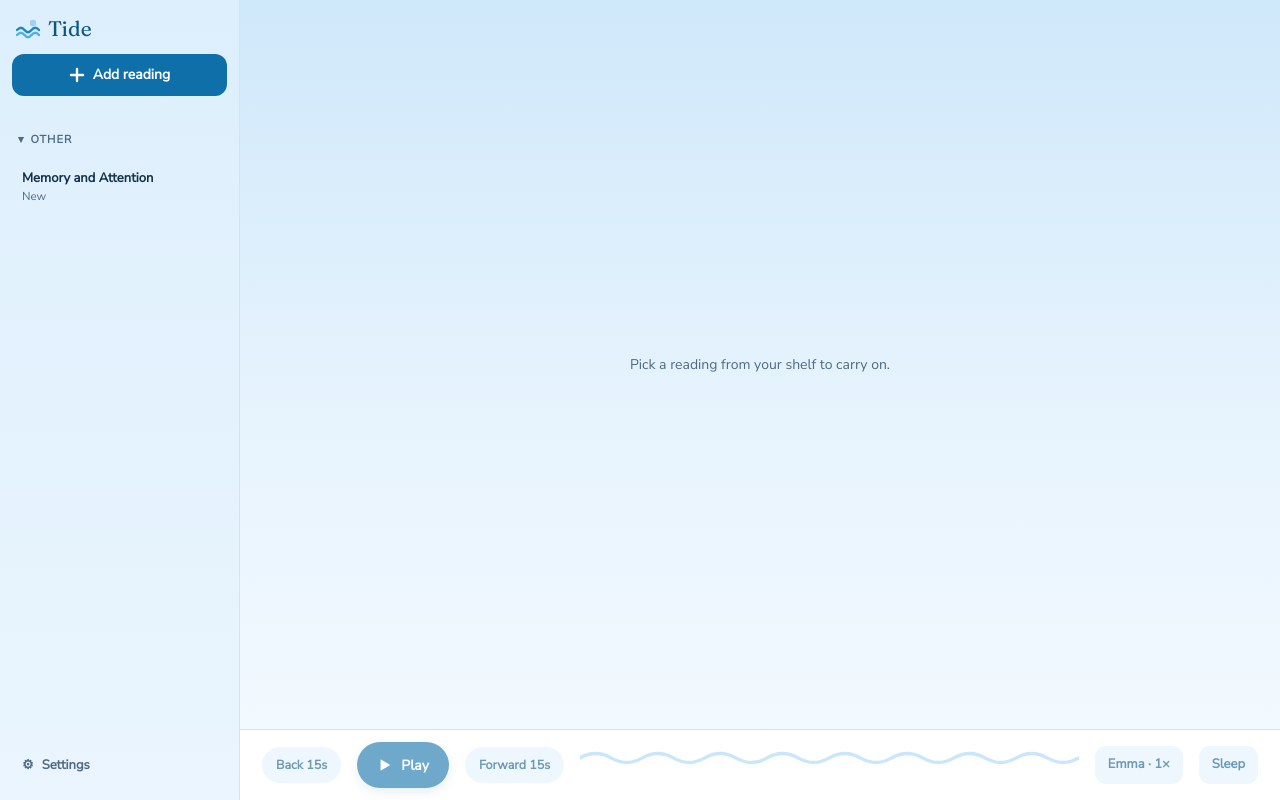
it: Reader open states › a missing file at open time shows File moved
Click the button "Memory and Attention New" at (120,187), box left=12, top=162, right=227, bottom=212
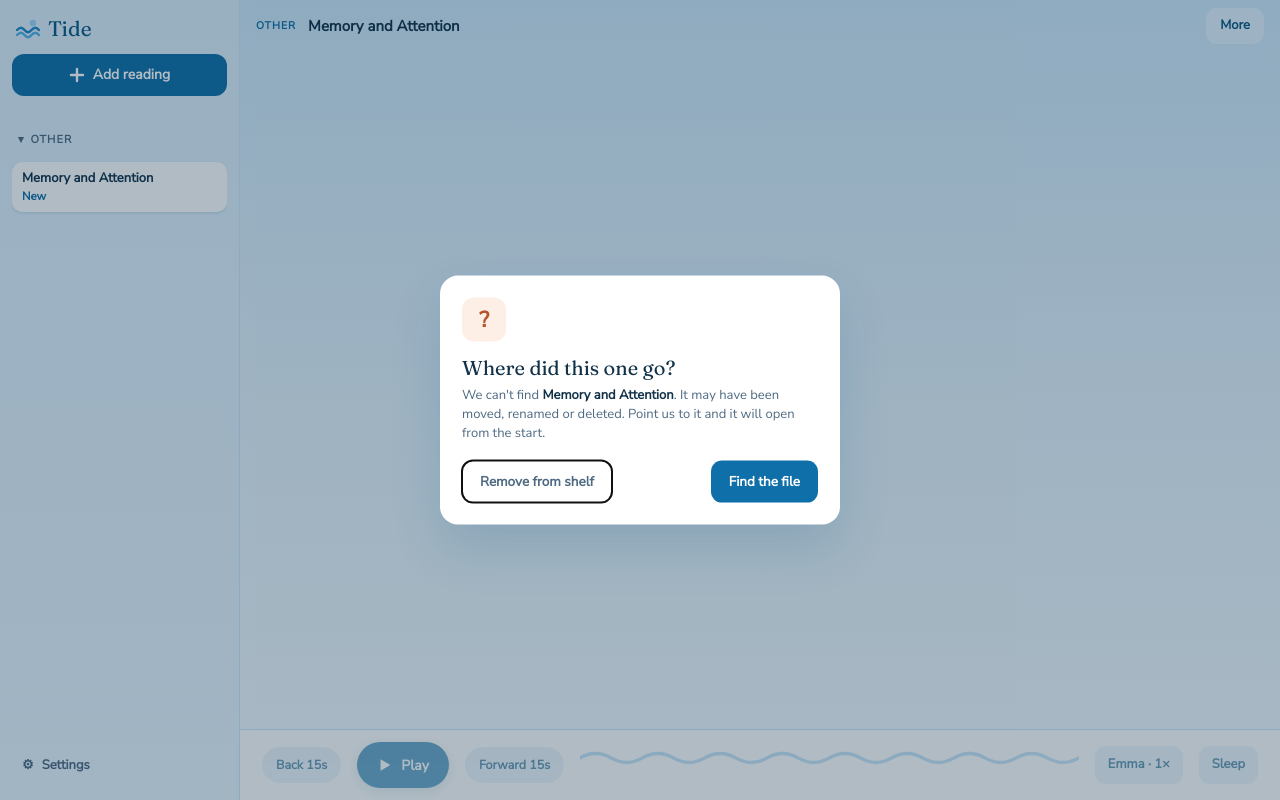
Now the dialog "Where did this one go?" is shown, box left=440, top=276, right=840, bottom=524
